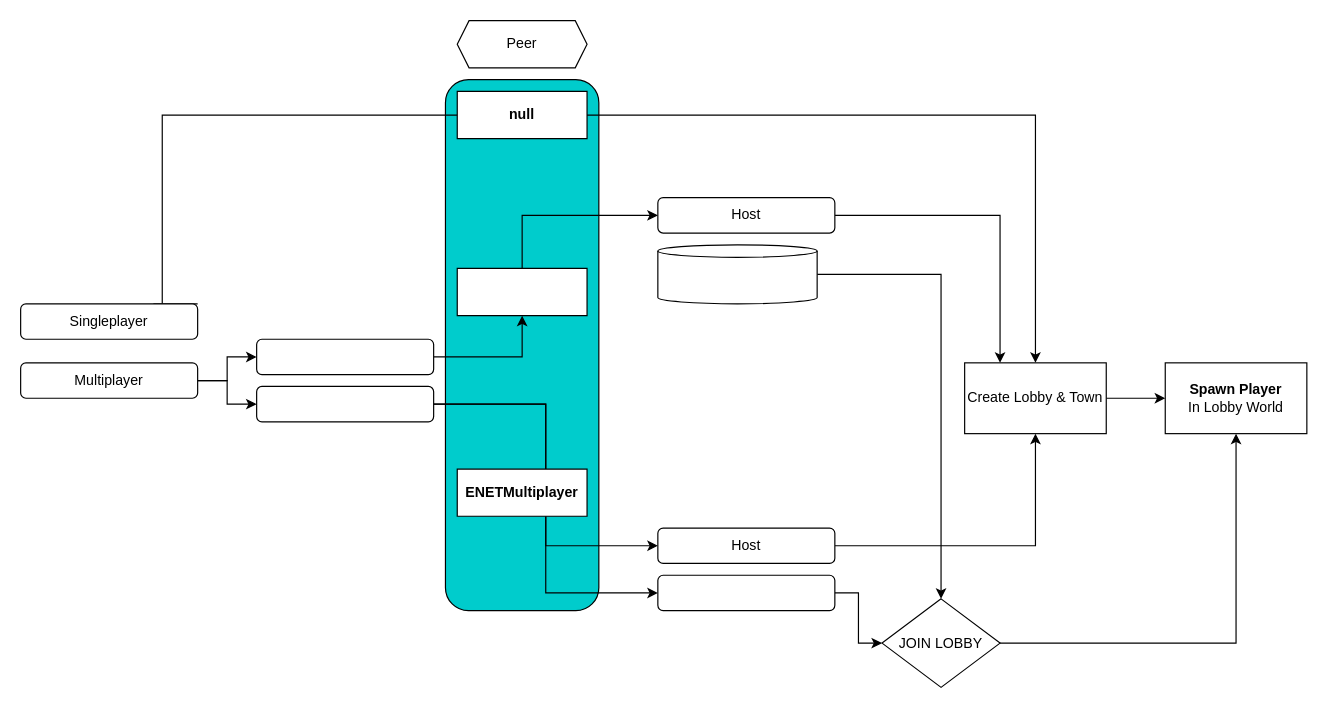
The diagram is 1328 pixels wide and 708 high, and some of its shapes have lost their labels. Here are the shapes that lost their labels. From the top down, the box of each, then its label:
(456, 267, 587, 316): SteamMultiplayer
(657, 244, 817, 304): Lobby List
(255, 338, 434, 375): Public
(255, 385, 434, 422): Local
(657, 574, 835, 611): Join
